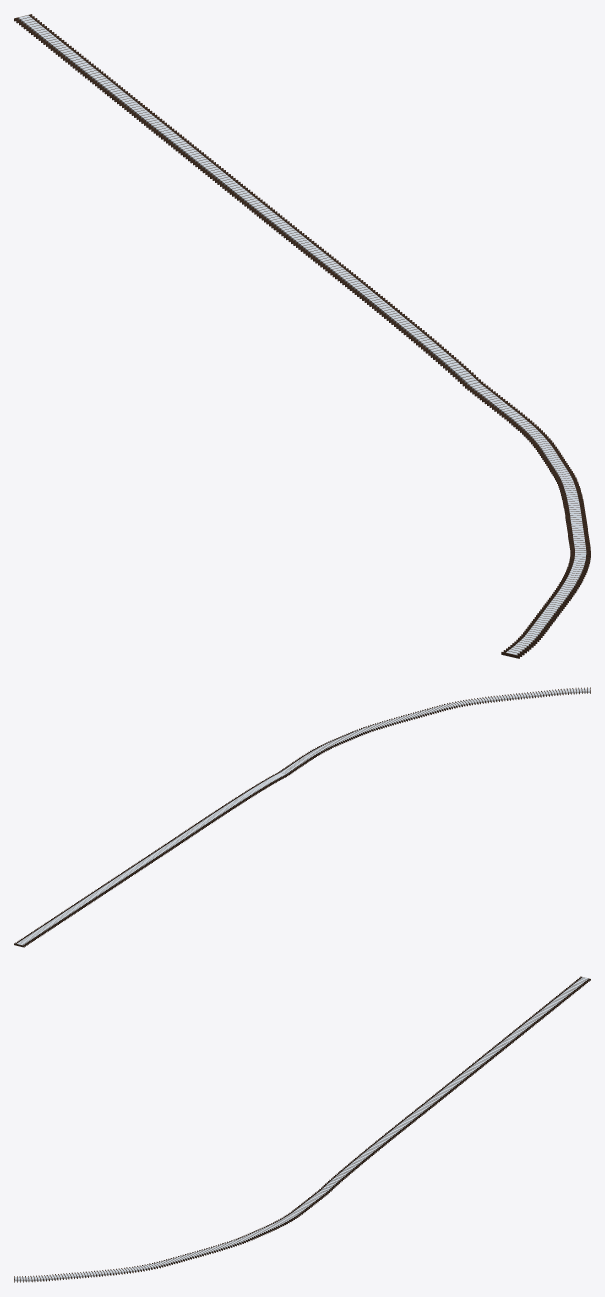
Rendered from Ties_-2_-2.fbx.
The picture shows the model from 3 angles, top to bottom: view 1: azimuth 30°, elevation 25°; view 2: azimuth 150°, elevation 25°; view 3: azimuth 330°, elevation 25°; orthographic projection. The views are drawn at different scales.
Visible parts, largest first — view 1: Ties_-2_-2; view 2: Ties_-2_-2; view 3: Ties_-2_-2.
Part boxes in pixels (x1,y1,x2,y2): Ties_-2_-2: (14, 14, 590, 658); Ties_-2_-2: (14, 687, 590, 947); Ties_-2_-2: (14, 976, 590, 1282).
Size of the model in its own units: 12307 by 1990 by 60341.
